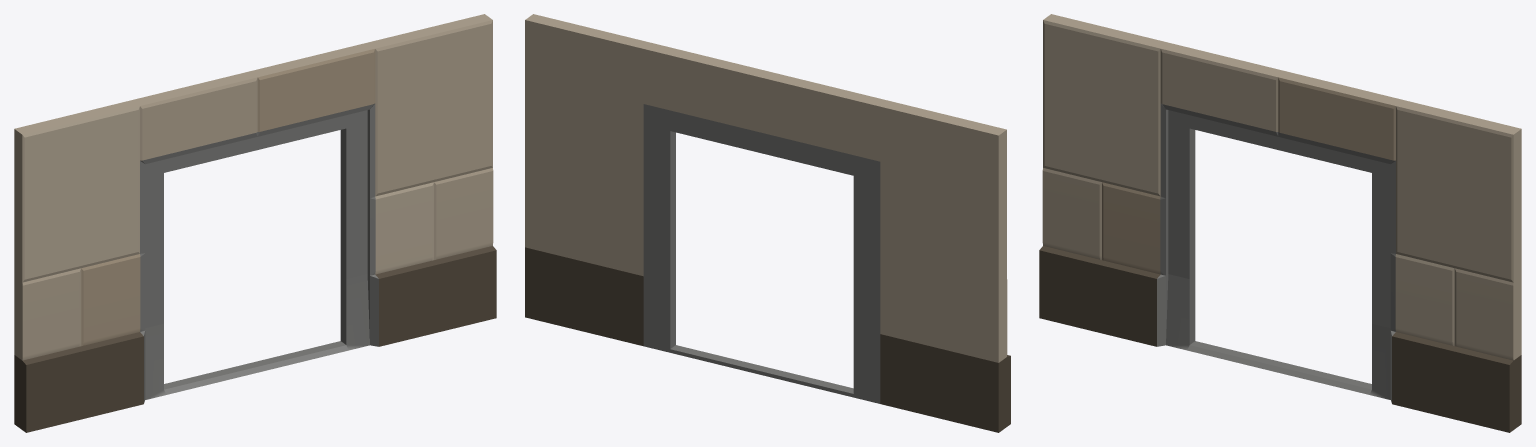
Rendered from Wall_Exterior_DoubleDoor_01.glb.
The picture shows the model from 3 angles, left to right: view 1: azimuth 30°, elevation 25°; view 2: azimuth 150°, elevation 25°; view 3: azimuth 330°, elevation 25°; orthographic projection.
Visible parts, largest first — view 1: SM_Env_Wall_Exterior_DoubleDoor_01; view 2: SM_Env_Wall_Exterior_DoubleDoor_01; view 3: SM_Env_Wall_Exterior_DoubleDoor_01.
Part boxes in pixels (<box>): SM_Env_Wall_Exterior_DoubleDoor_01: <box>14,14,496,432</box>; SM_Env_Wall_Exterior_DoubleDoor_01: <box>525,14,1010,432</box>; SM_Env_Wall_Exterior_DoubleDoor_01: <box>1039,14,1521,432</box>.
Size of the model in its own units: 5 by 3 by 0.2206.
Materials: 1 (1 with a texture image).
